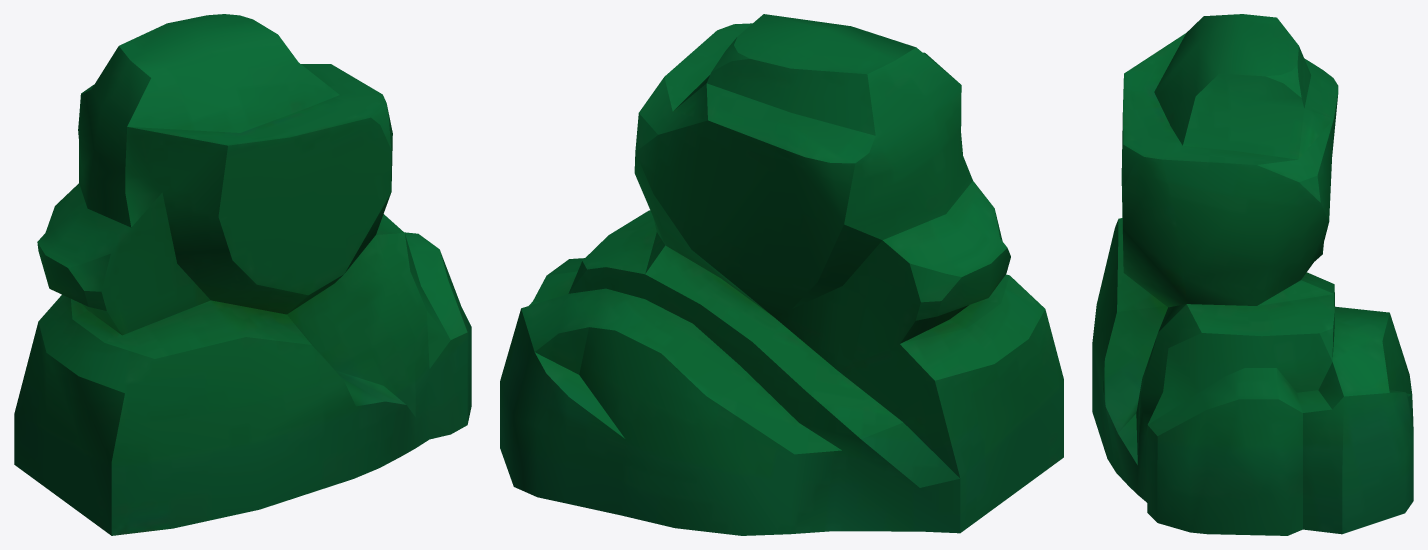
The model's file is FOL_Foliage_08.obj.
3 views of the same model, side by side, from view 1: azimuth 30°, elevation 25°; view 2: azimuth 150°, elevation 25°; view 3: azimuth 270°, elevation 25° (orthographic). The views are drawn at different scales.
Visible parts, largest first — view 1: FOL_Foliage_08; view 2: FOL_Foliage_08; view 3: FOL_Foliage_08.
Boxes of the visible parts, <box> form: FOL_Foliage_08: <box>14,14,471,535</box>; FOL_Foliage_08: <box>500,14,1063,535</box>; FOL_Foliage_08: <box>1092,14,1413,535</box>.
Size of the model in its own units: 3.29 by 3.12 by 2.34.
1 material, 1 textured.
